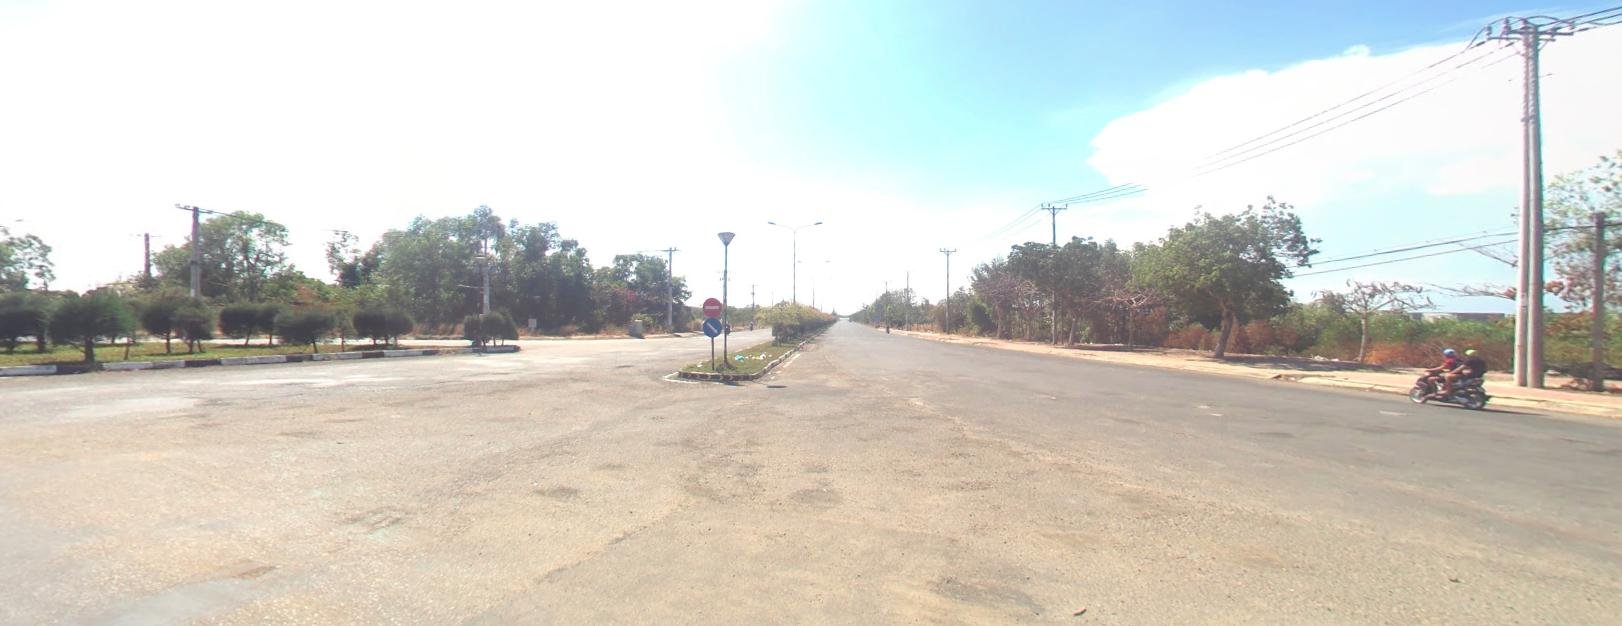Cam nguoc chieu: (702, 295, 722, 314)
Hieu lenh: (702, 316, 722, 336)
